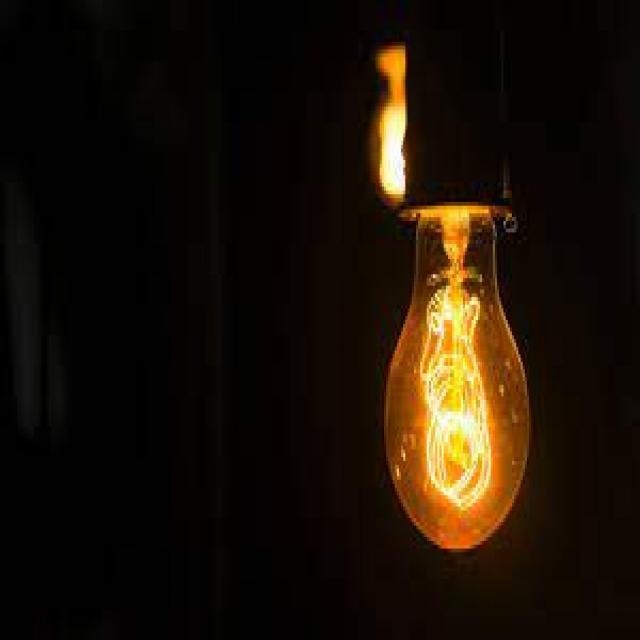light_bulb: (368, 29, 548, 558)
